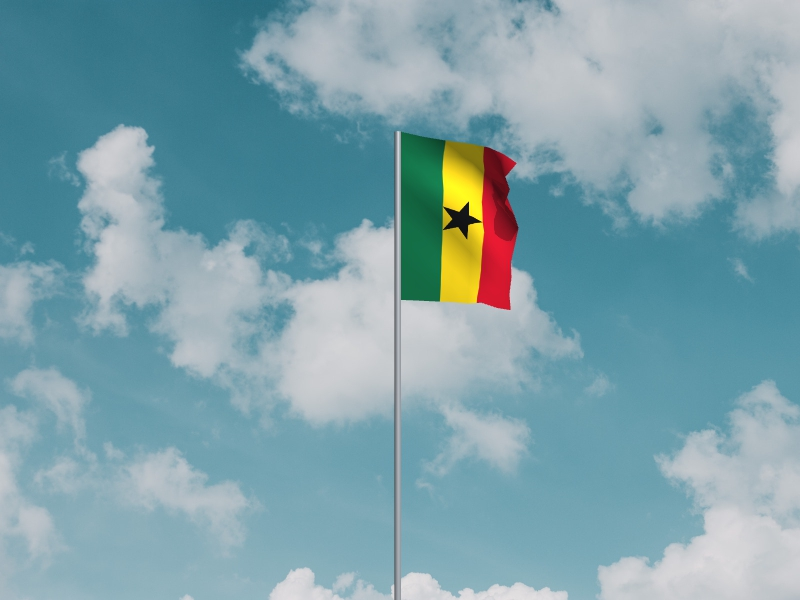gh: (402, 133, 518, 312)
